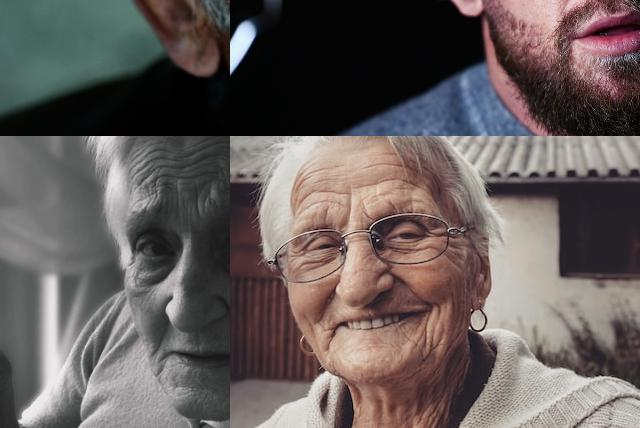crows_feet: (288, 246, 306, 274), (427, 222, 445, 246)
forehead: (294, 168, 334, 208), (379, 154, 417, 190), (134, 155, 154, 195), (190, 140, 212, 176), (160, 146, 183, 178), (220, 136, 230, 168)
frown_line: (169, 182, 183, 214), (358, 206, 372, 230), (342, 203, 354, 228), (192, 193, 204, 217)
gummy_smile: (314, 286, 340, 322), (380, 262, 410, 286), (150, 330, 168, 356)
sad_smile: (425, 299, 443, 351), (323, 326, 339, 354)
